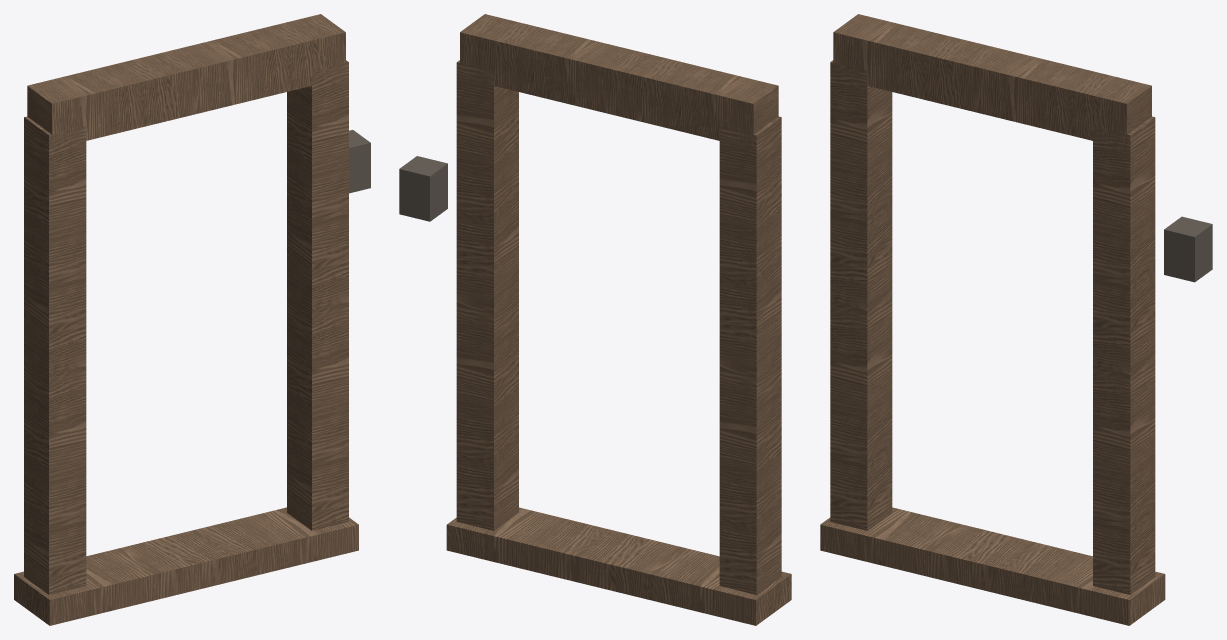
Rendered from door_frame.glb.
The picture shows the model from 3 angles, left to right: view 1: azimuth 30°, elevation 25°; view 2: azimuth 150°, elevation 25°; view 3: azimuth 330°, elevation 25°; orthographic projection.
Visible parts, largest first — view 1: door_frame; view 2: door_frame; view 3: door_frame.
Boxes of the visible parts, left/top/right/bottom form: door_frame: left=14, top=14, right=370, bottom=625; door_frame: left=399, top=14, right=791, bottom=625; door_frame: left=820, top=14, right=1212, bottom=625.
Bounding box in the file's own units: 2.25 × 3.19 × 0.5.
Materials: 3 (1 with a texture image).
